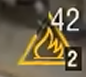2fire: (15, 35, 82, 71)
